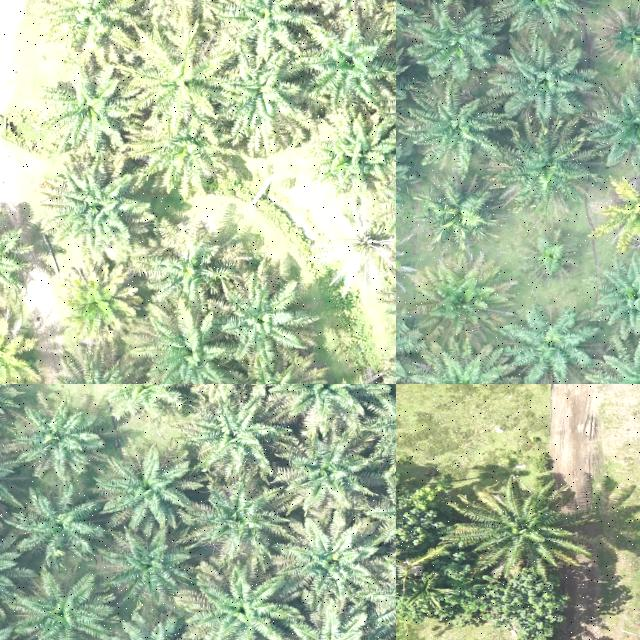Ganoderma: (68, 280, 124, 332), (607, 186, 640, 240), (0, 333, 22, 384)
